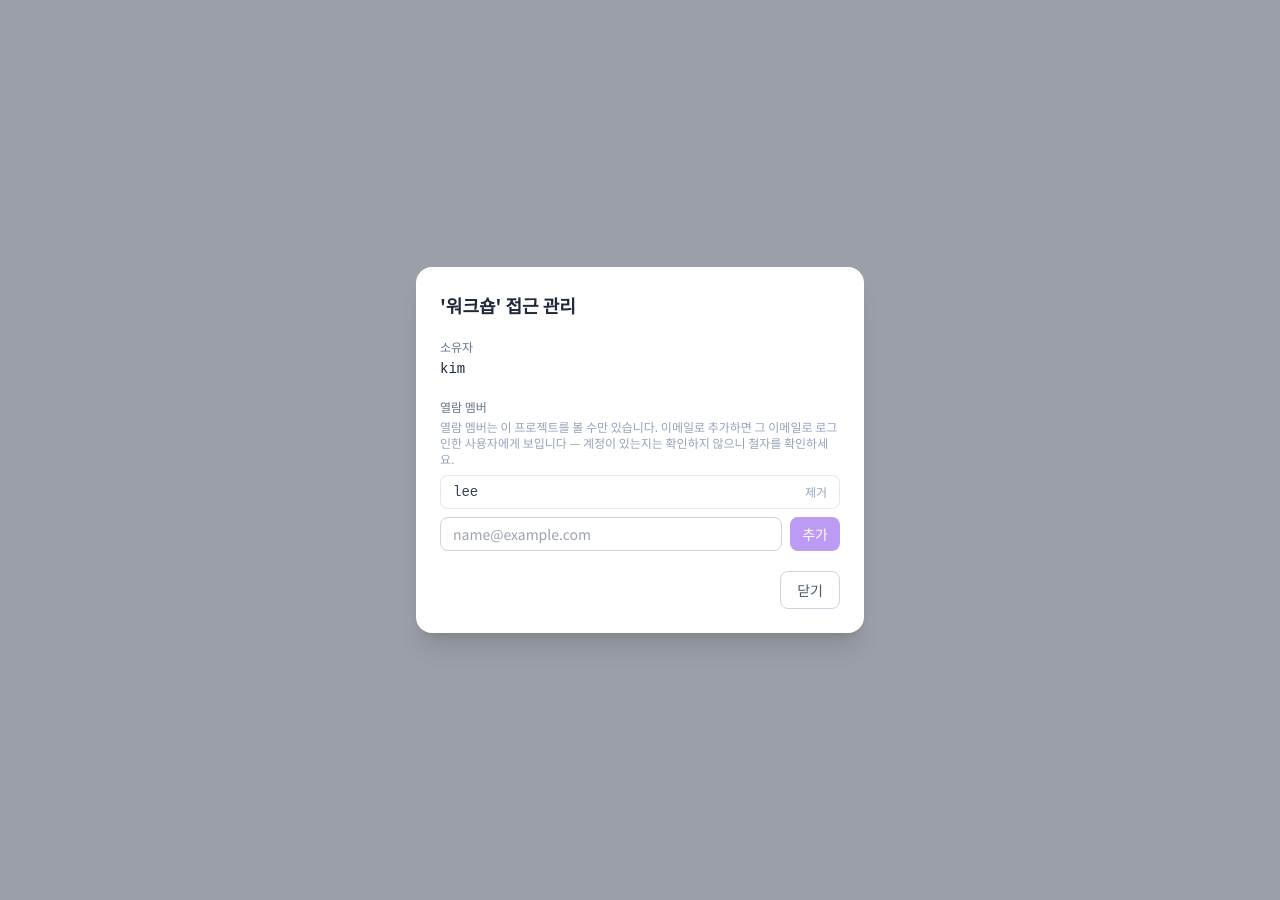
Test: ProjectMembersModal › removes a viewer
Click the button with aria-label "lee 열람 멤버에서 제거" at (816, 492), box x1=805 y1=484 x2=827 y2=500
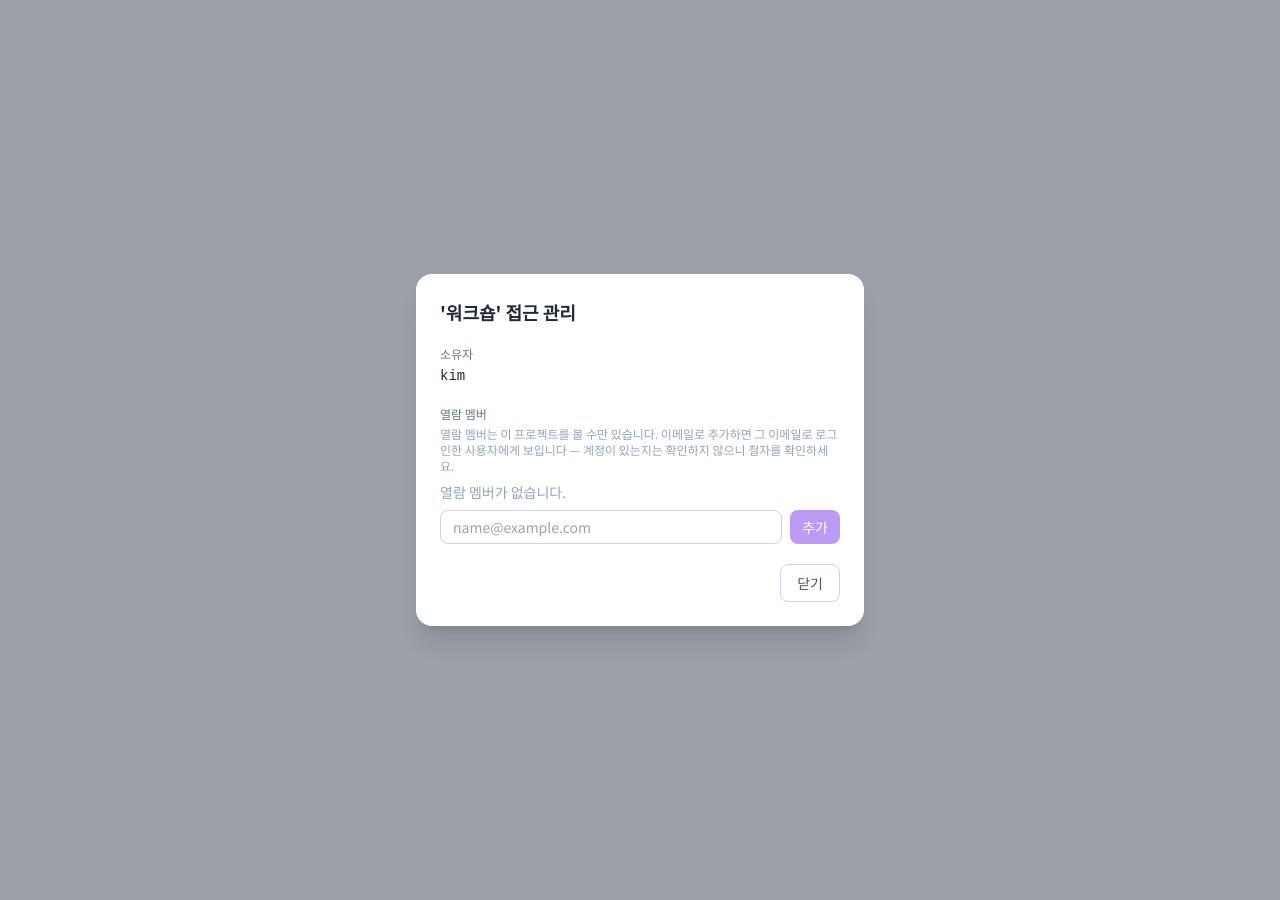
Check: the text "열람 멤버가 없습니다." is shown, box x1=440 y1=482 x2=566 y2=502
